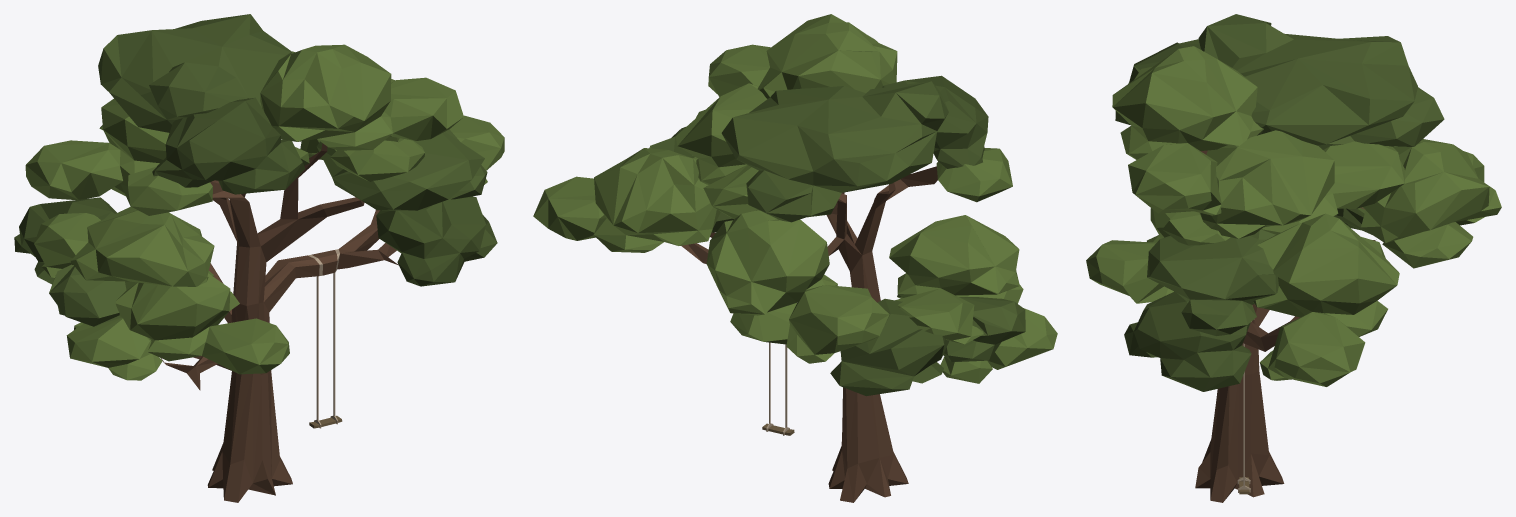
File: sc-farm-tree-lod1.glb
3 renders of one model, left to right at view 1: azimuth 30°, elevation 25°; view 2: azimuth 150°, elevation 25°; view 3: azimuth 270°, elevation 25°, orthographic. The views are drawn at different scales.
Visible parts, largest first — view 1: SM_Env_Tree_Large_01, SM_Env_Tree_Large_Swing_01; view 2: SM_Env_Tree_Large_01, SM_Env_Tree_Large_Swing_01; view 3: SM_Env_Tree_Large_01.
Boxes of the visible parts, x1,y1,x2,y2 form: SM_Env_Tree_Large_01: (14, 14, 504, 502); SM_Env_Tree_Large_Swing_01: (309, 272, 342, 428); SM_Env_Tree_Large_01: (533, 14, 1057, 502); SM_Env_Tree_Large_Swing_01: (762, 342, 794, 435); SM_Env_Tree_Large_01: (1086, 14, 1501, 502).
Size of the model in its own units: 17.84 by 16 by 13.07.
1 material, 1 textured.
